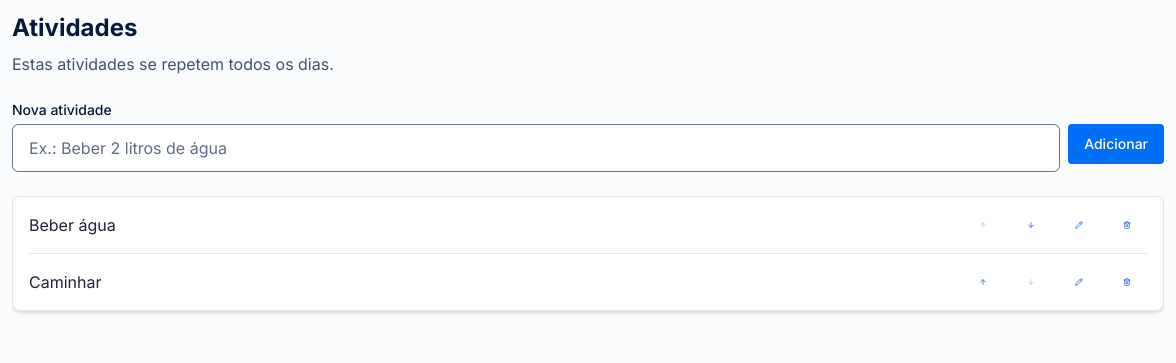
it: Activities › deve renomear uma atividade
Click the button named "Editar \"Beber água\"".
click(1079, 225)  # box [1059, 205, 1099, 245]
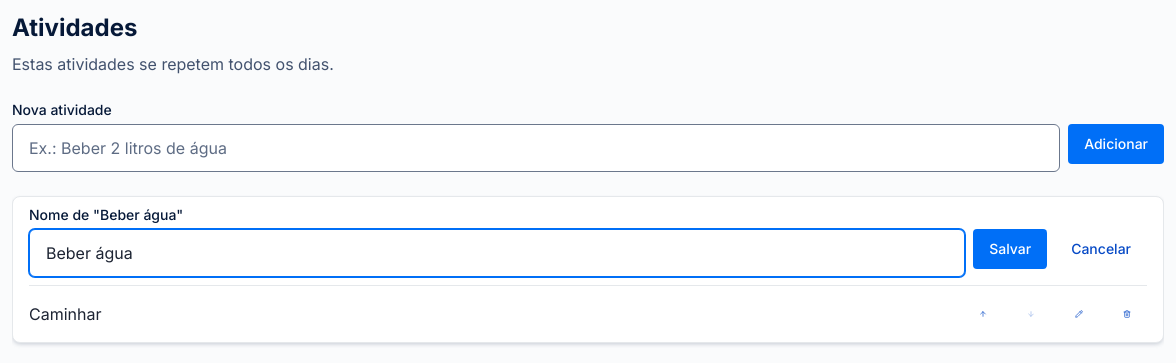
Replace the text in the field labelled "Nome de \"Beber água\"" with "Beber 2 litros" at (497, 253), box [29, 229, 965, 277]
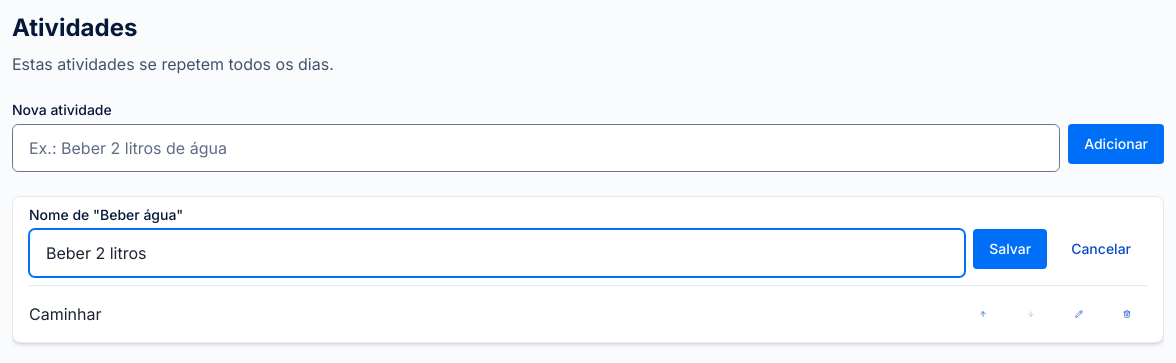
Click the button "Salvar".
click(1010, 249)  # box [973, 229, 1047, 269]
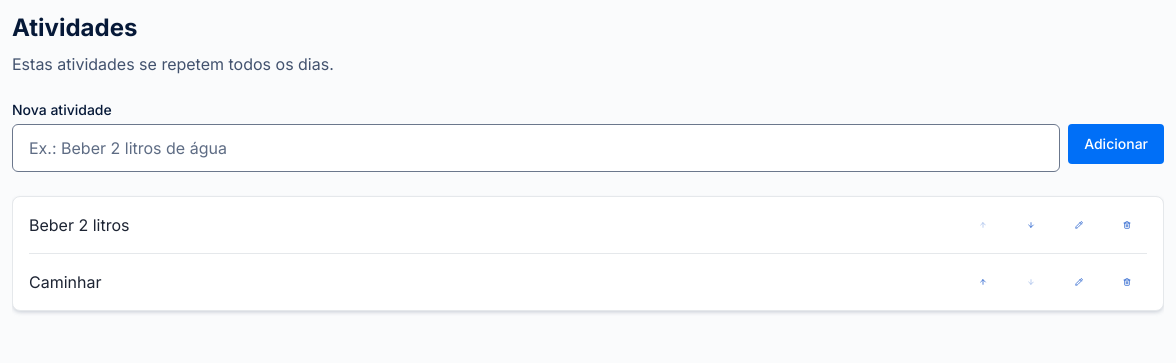
Expected: the text "Beber 2 litros" is shown, [29, 215, 130, 235]
